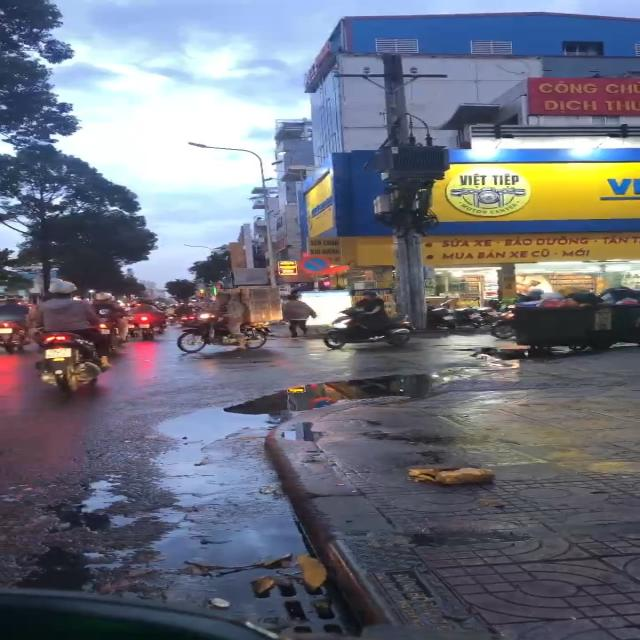Bien bao cam do xe: (293, 252, 329, 273)
